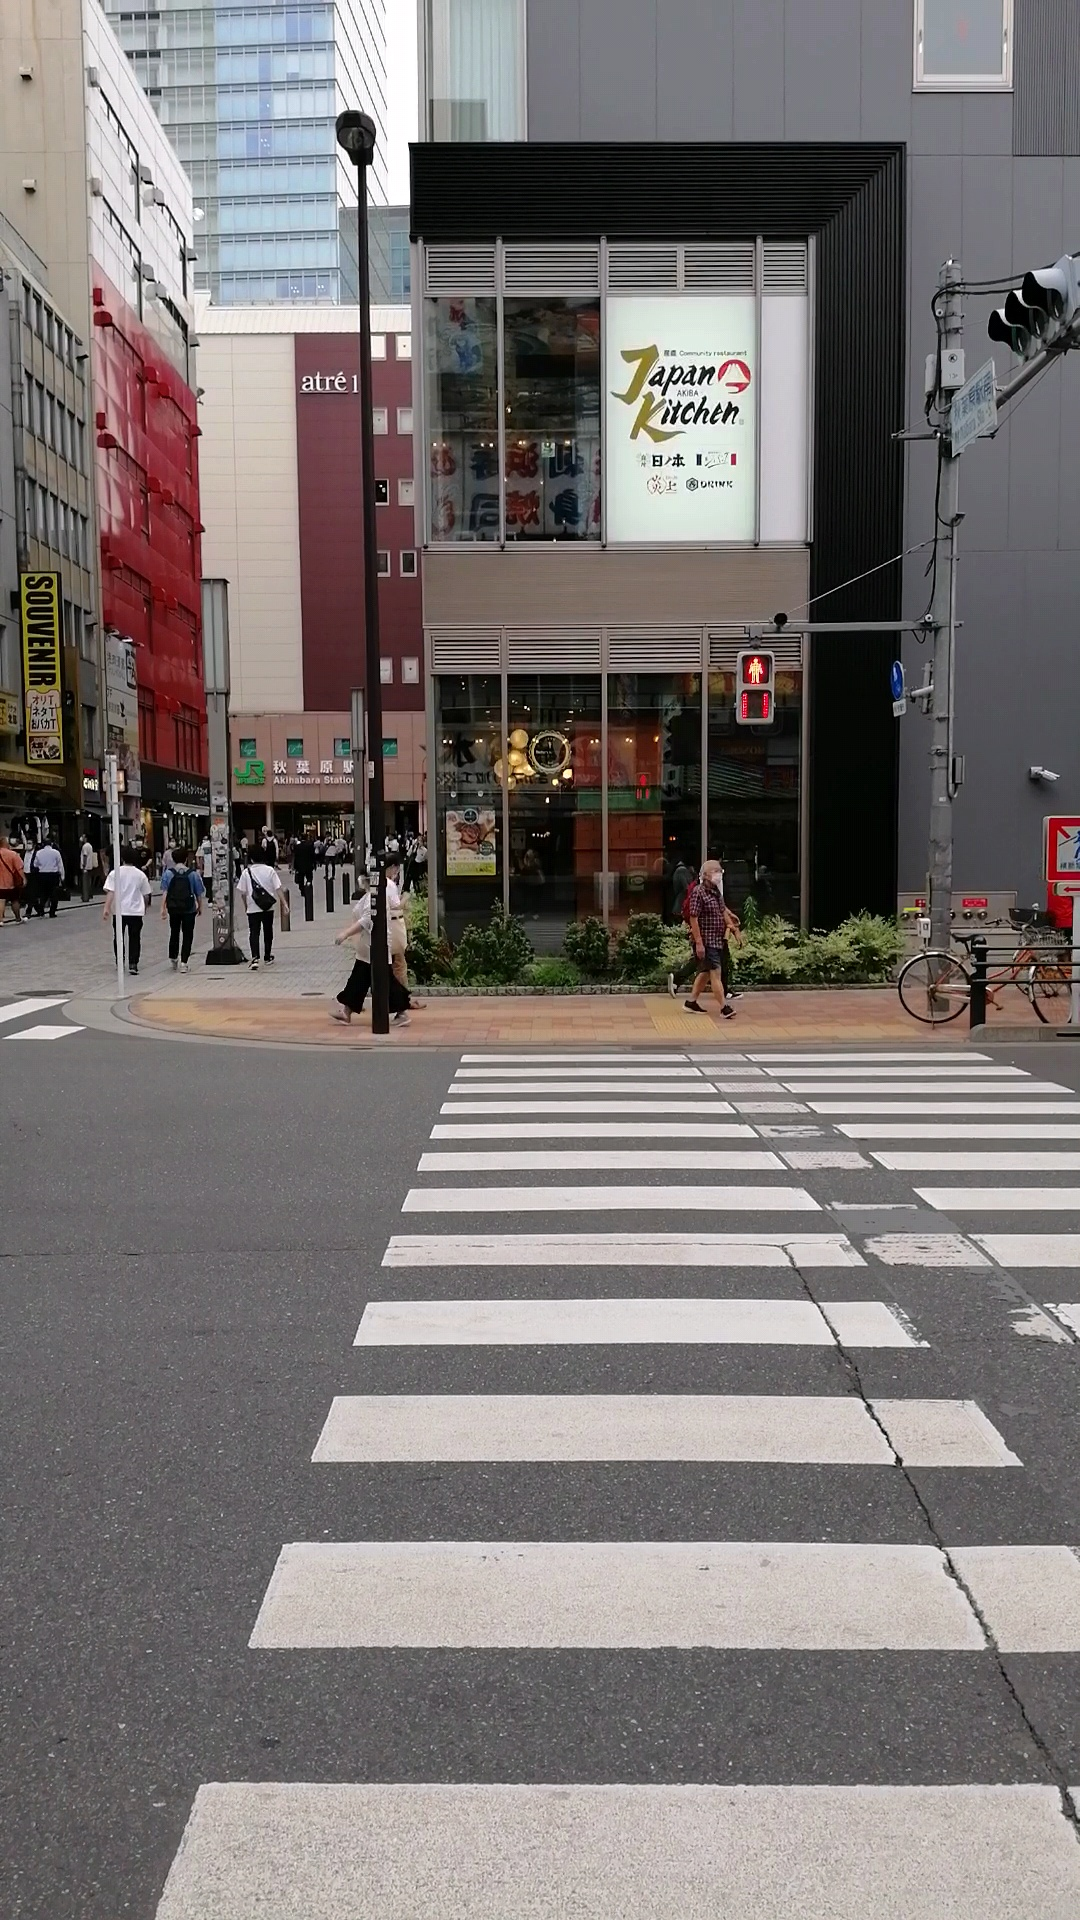red: (736, 651, 773, 723)
